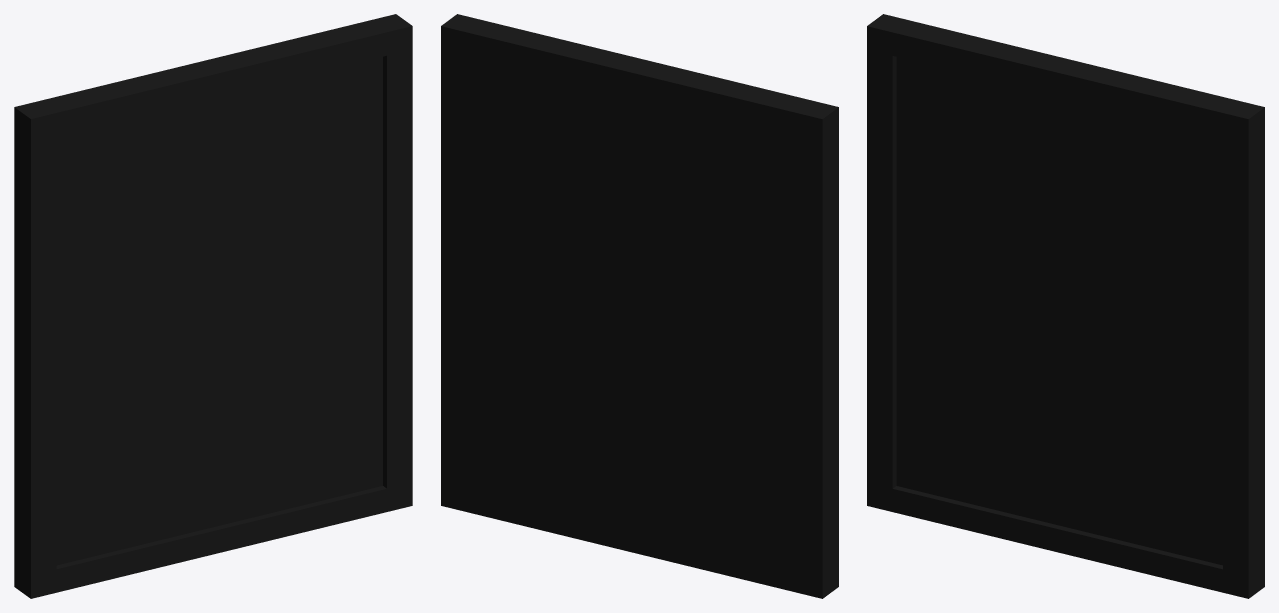
File: Itr_Obj_Frame2_02.FBX
3 views of the same model, side by side, from view 1: azimuth 30°, elevation 25°; view 2: azimuth 150°, elevation 25°; view 3: azimuth 330°, elevation 25° (orthographic).
Parts seen in each view (by area): view 1: Itr_Obj_Frame2_02; view 2: Itr_Obj_Frame2_02; view 3: Itr_Obj_Frame2_02.
Boxes of the visible parts, box(x1,y1,x2,y2) form: Itr_Obj_Frame2_02: box(14, 14, 412, 598); Itr_Obj_Frame2_02: box(441, 14, 838, 598); Itr_Obj_Frame2_02: box(867, 14, 1264, 598).
Bounding box in the file's own units: 31.11 × 37.35 × 2.33.
